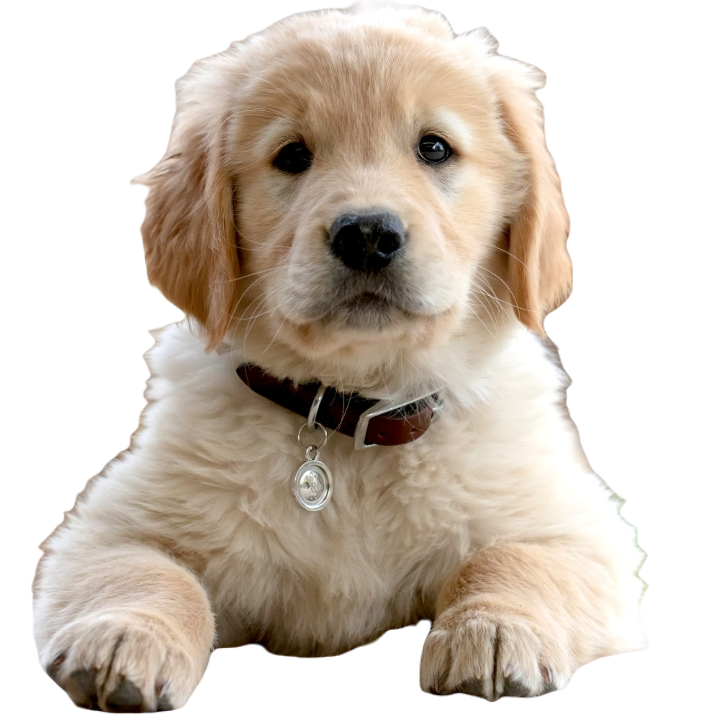Dog: (33, 11, 648, 708)
